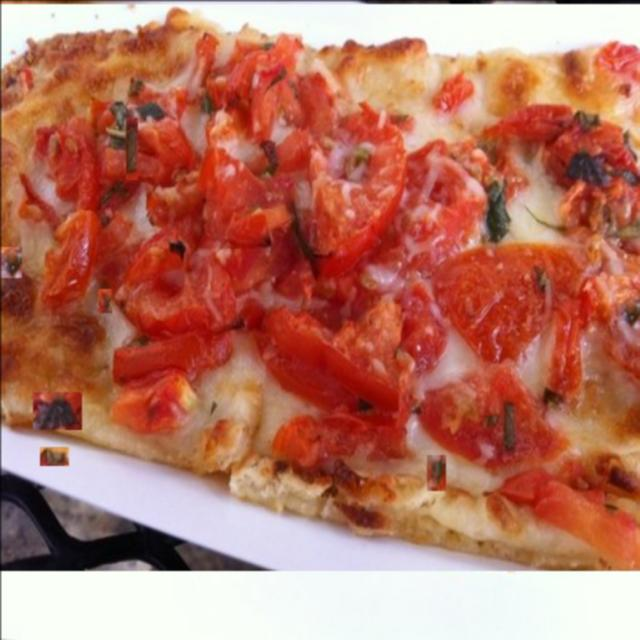basil: (127, 331, 160, 400), (32, 391, 81, 429), (474, 452, 510, 475), (125, 117, 137, 179), (426, 454, 445, 490), (513, 430, 528, 474), (0, 246, 21, 277), (39, 446, 68, 465), (496, 475, 513, 503), (97, 288, 111, 312)
pizza: (0, 3, 640, 570)
